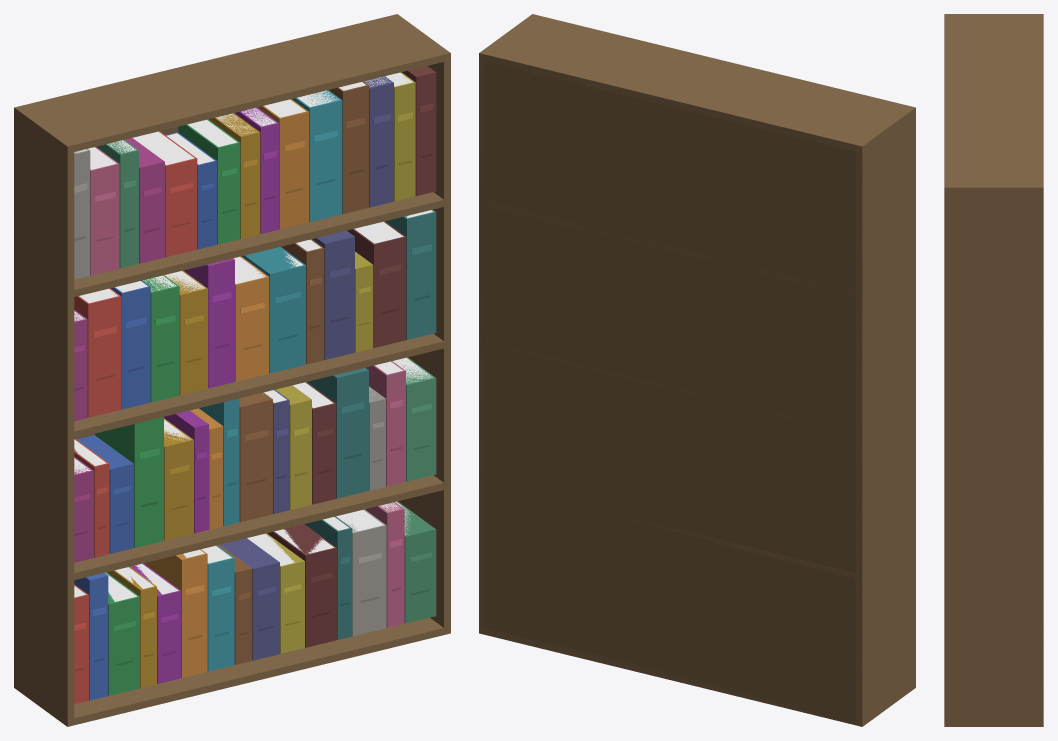
The model's file is Bookshelf.glb.
The picture shows the model from 3 angles, left to right: view 1: azimuth 30°, elevation 25°; view 2: azimuth 150°, elevation 25°; view 3: azimuth 270°, elevation 25°; orthographic projection. The views are drawn at different scales.
Visible parts, largest first — view 1: Books, Shelf; view 2: Shelf; view 3: Shelf.
Boxes of the visible parts, bbox=[...] form: Books: bbox=[74, 66, 436, 704]; Shelf: bbox=[14, 14, 450, 726]; Shelf: bbox=[479, 14, 915, 726]; Shelf: bbox=[944, 14, 1043, 726].
Bounding box in the file's own units: 1.24 × 1.8 × 0.3.
